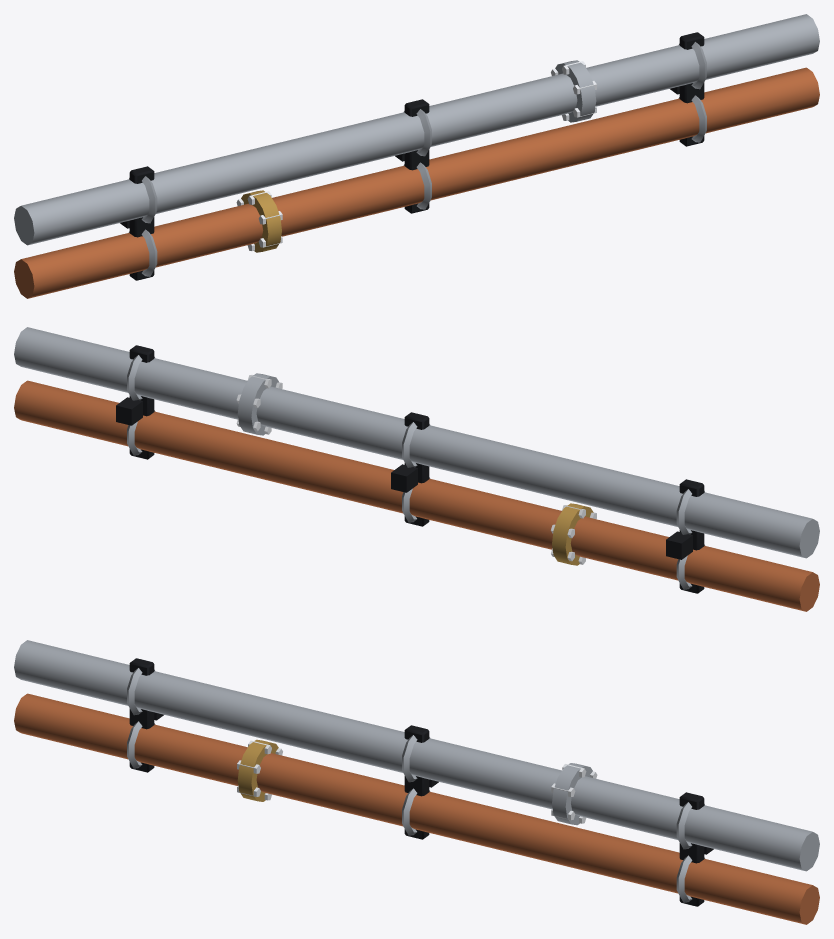
File: pipe_double_run.glb
3 views of the same model, one above another, from view 1: azimuth 30°, elevation 25°; view 2: azimuth 150°, elevation 25°; view 3: azimuth 330°, elevation 25° (orthographic).
Visible parts, largest first — view 1: pipe_double_run; view 2: pipe_double_run; view 3: pipe_double_run.
Part boxes in pixels (<box>): pipe_double_run: <box>14,14,819,298</box>; pipe_double_run: <box>14,327,819,611</box>; pipe_double_run: <box>14,640,819,924</box>.
Size of the model in its own units: 2 by 0.2634 by 0.1475.
